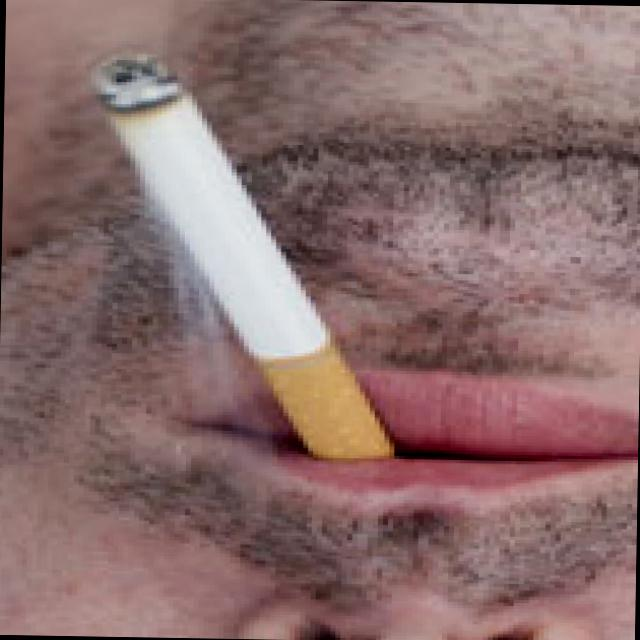smoke: (90, 65, 427, 468)
